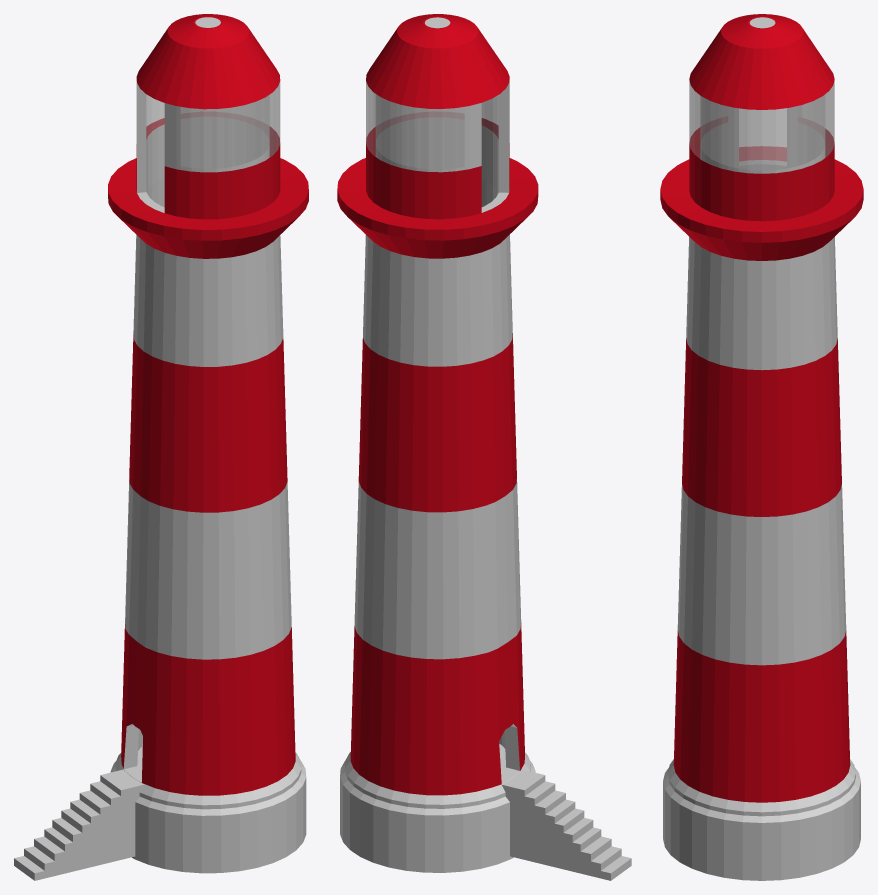
File: LightHouse.fbx
3 views of the same model, side by side, from view 1: azimuth 30°, elevation 25°; view 2: azimuth 150°, elevation 25°; view 3: azimuth 270°, elevation 25° (orthographic).
Parts seen in each view (by area): view 1: Ligthouse; view 2: Ligthouse; view 3: Ligthouse.
Boxes of the visible parts, x1,y1,x2,y2 form: Ligthouse: (14,14,308,880); Ligthouse: (337,14,631,880); Ligthouse: (660,14,863,880).
Size of the model in its own units: 8397 by 23963 by 5407.
